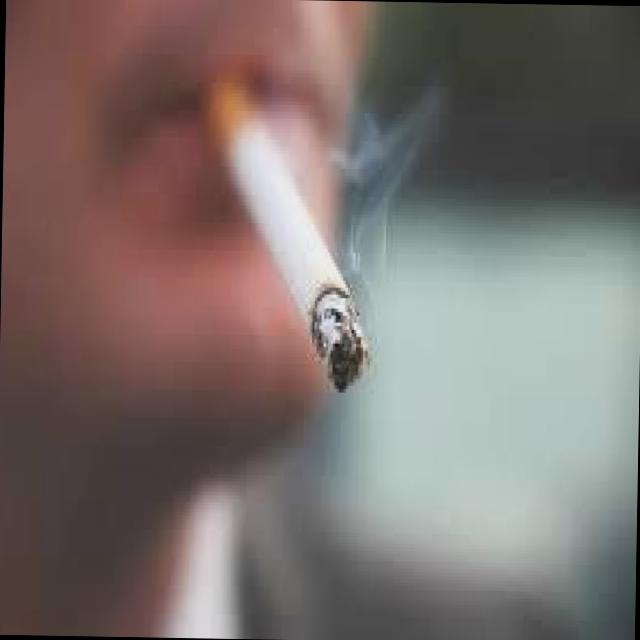smoke: (190, 51, 380, 397)
